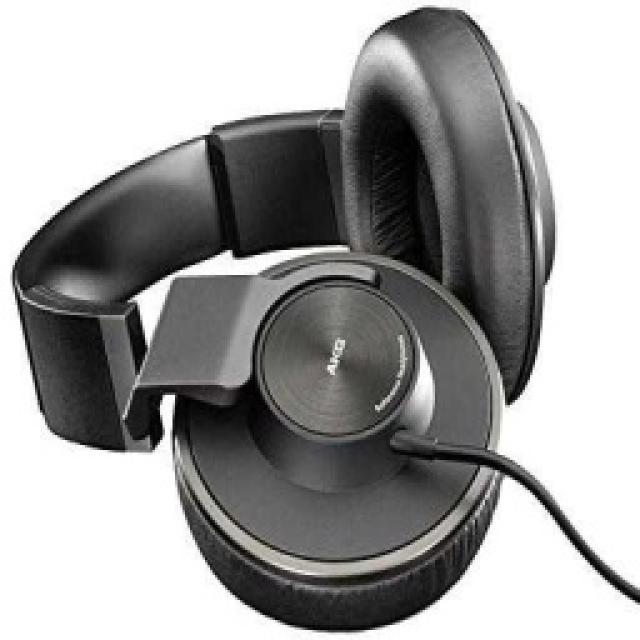headphones: (8, 2, 558, 630)
